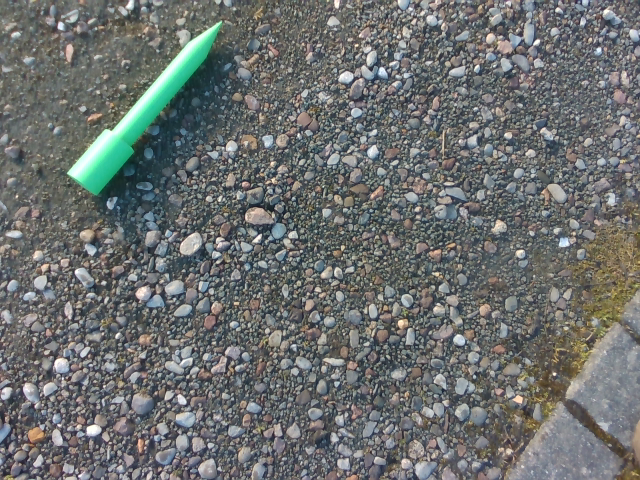Probe: (63, 22, 226, 207)
